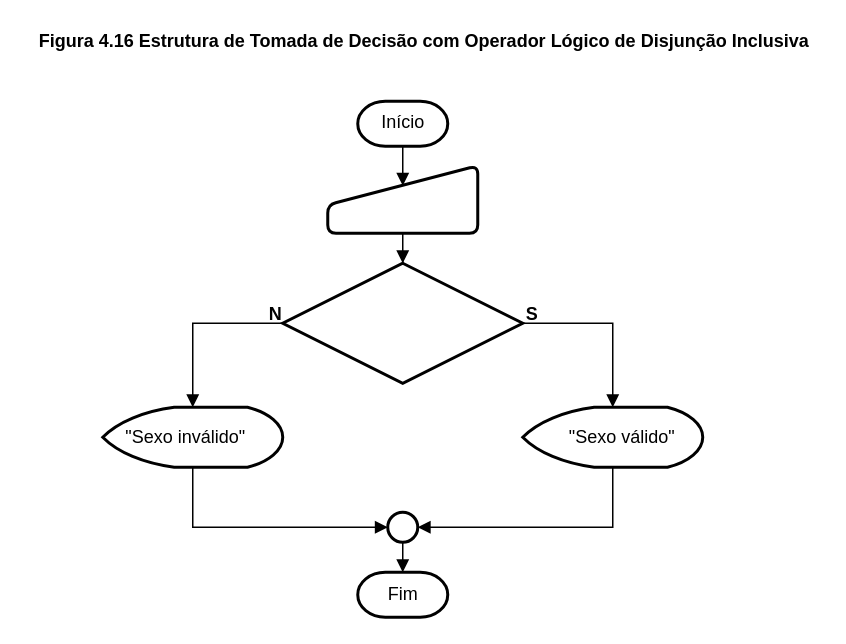
This 846x644 diagram has some shape labels left out. Each missing label, with the box of its shape:
SEXO: (326, 164, 478, 234)
SEXO = "M" ou SEXO = "F": (280, 261, 524, 384)
